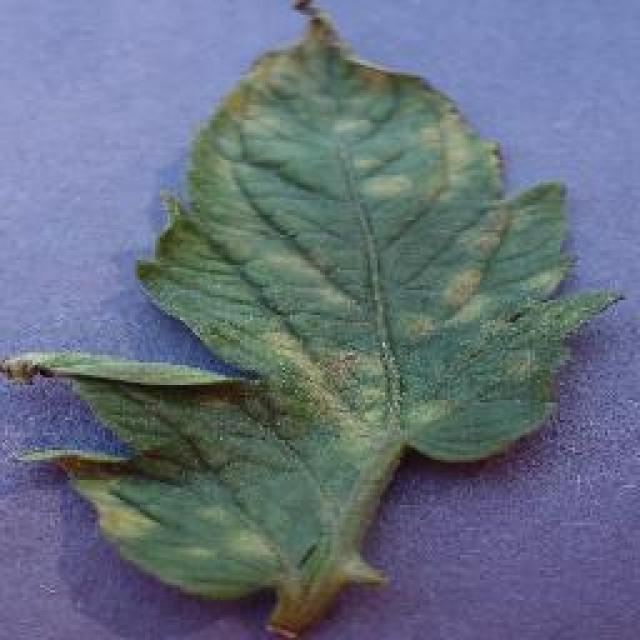Tomato mold leaf: (0, 0, 628, 600)
